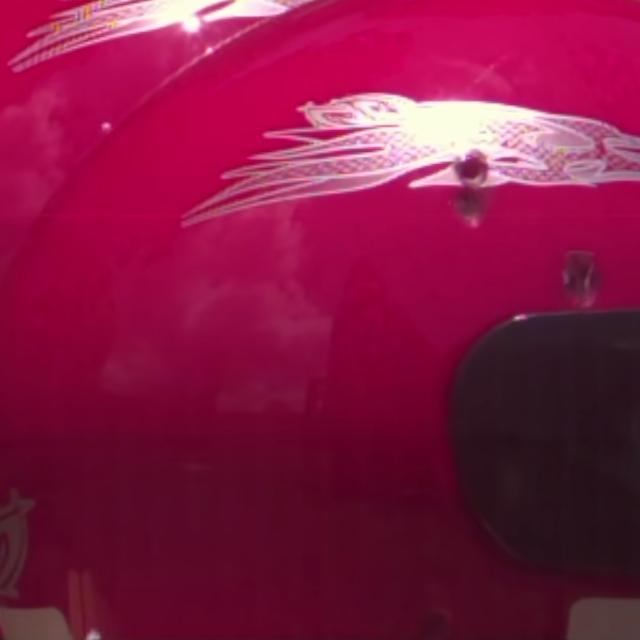bullets: (552, 249, 606, 301), (446, 184, 490, 224), (449, 149, 488, 188), (416, 604, 456, 640)
